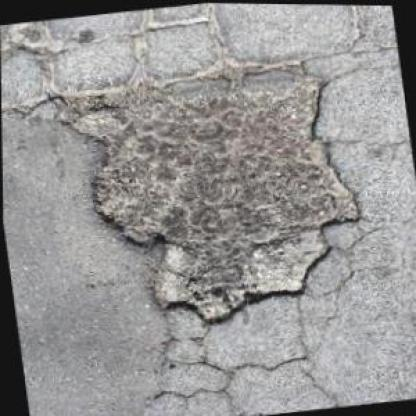pothole: (68, 50, 376, 342)
